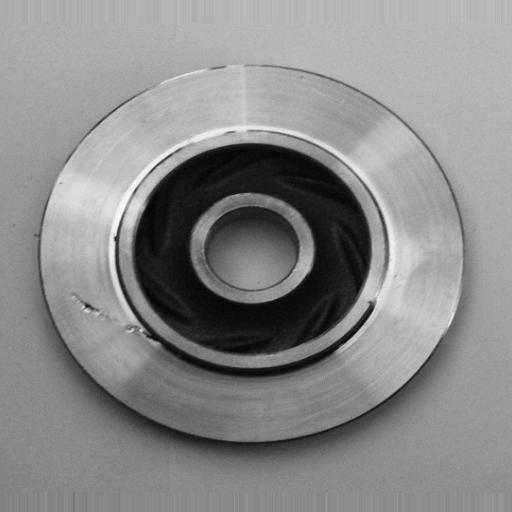crack: (70, 290, 170, 350)
scratch: (365, 249, 401, 322), (177, 118, 253, 148)
unpolished_casting: (37, 60, 468, 450)
